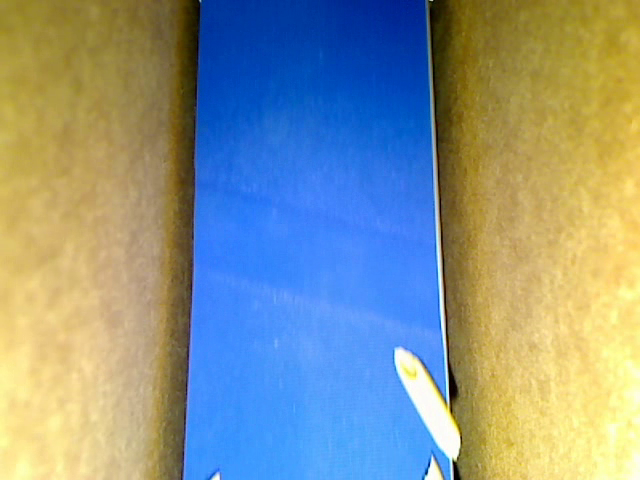penne: (393, 346, 461, 458)
